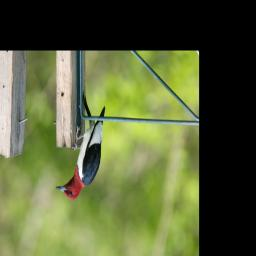Woodpecker: (55, 106, 106, 200)
